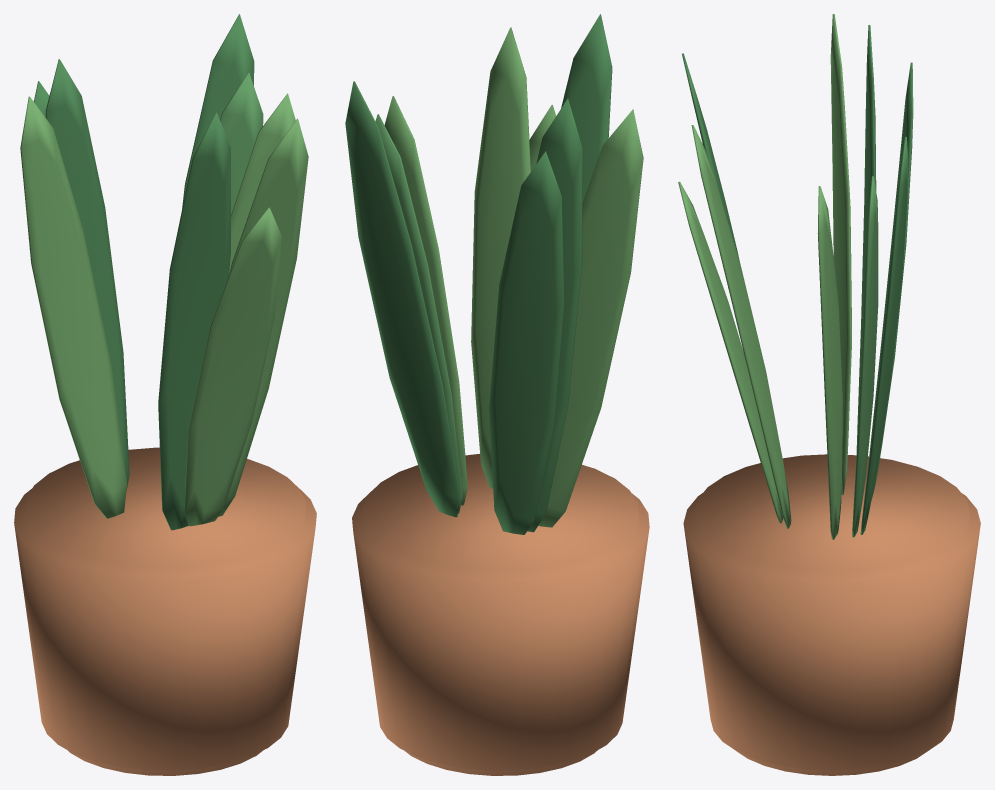
Rendered from plant-small.glb.
3 renders of one model, left to right at view 1: azimuth 30°, elevation 25°; view 2: azimuth 150°, elevation 25°; view 3: azimuth 270°, elevation 25°, orthographic. The views are drawn at different scales.
Parts seen in each view (by area): view 1: plant-small; view 2: plant-small; view 3: plant-small.
Boxes of the visible parts, x1,y1,x2,y2 form: plant-small: [14, 14, 316, 775]; plant-small: [345, 14, 649, 775]; plant-small: [678, 14, 980, 775].
Size of the model in its own units: 0.2081 by 0.4885 by 0.2016.
